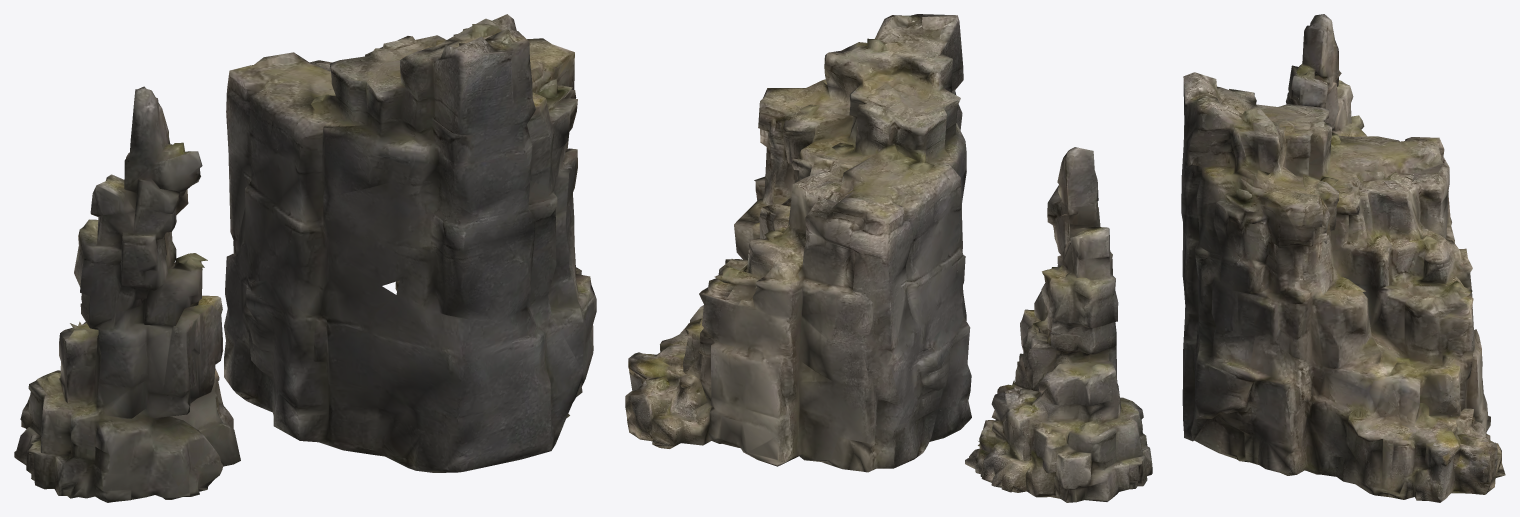
The model's file is cliffs.glb.
3 renders of one model, left to right at view 1: azimuth 30°, elevation 25°; view 2: azimuth 150°, elevation 25°; view 3: azimuth 270°, elevation 25°, orthographic. The views are drawn at different scales.
Parts seen in each view (by area): view 1: cliff, spire; view 2: cliff, spire; view 3: cliff, spire.
Part boxes in pixels (x1,y1,x2,y2): cliff: (224,14,596,472); spire: (14,86,240,502); cliff: (625,14,971,472); spire: (965,147,1152,502); cliff: (1181,72,1505,502); spire: (1286,14,1367,136).
Bounding box in the file's own units: 0.9145 × 0.6544 × 0.568.
Materials: 1 (1 with a texture image).
